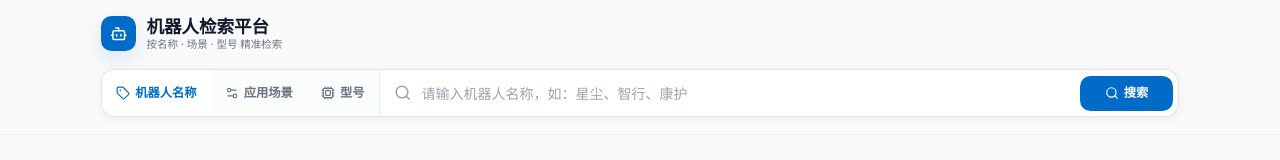
SearchBar.vue - 搜索组件 › 输入与清除 › 点击清除按钮清空输入
Type "测试关键词" into the field with placeholder "请输入机器人名称，如：星尘、智行、康护" at (743, 93), box [411,70,1075,116]
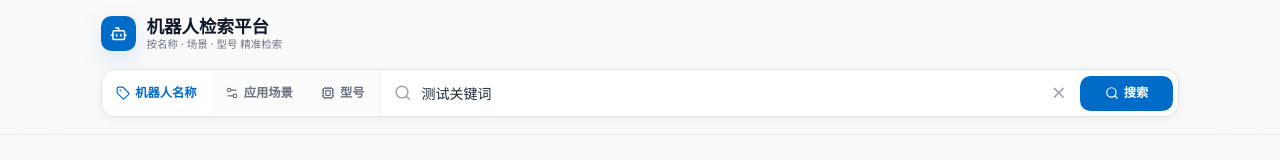
Click the button named "清除关键词" at (1059, 93), box [1047,81,1071,105]
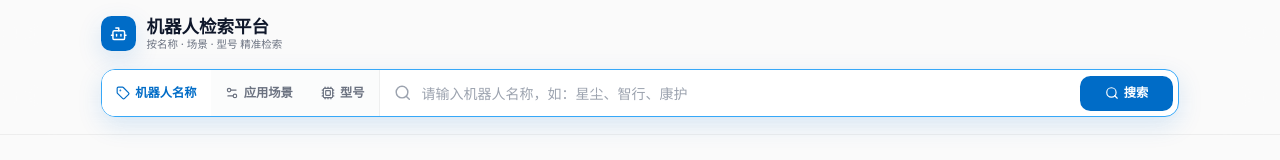
Result: the field with placeholder "请输入机器人名称，如：星尘、智行、康护" is empty at [411,70,1075,116]
